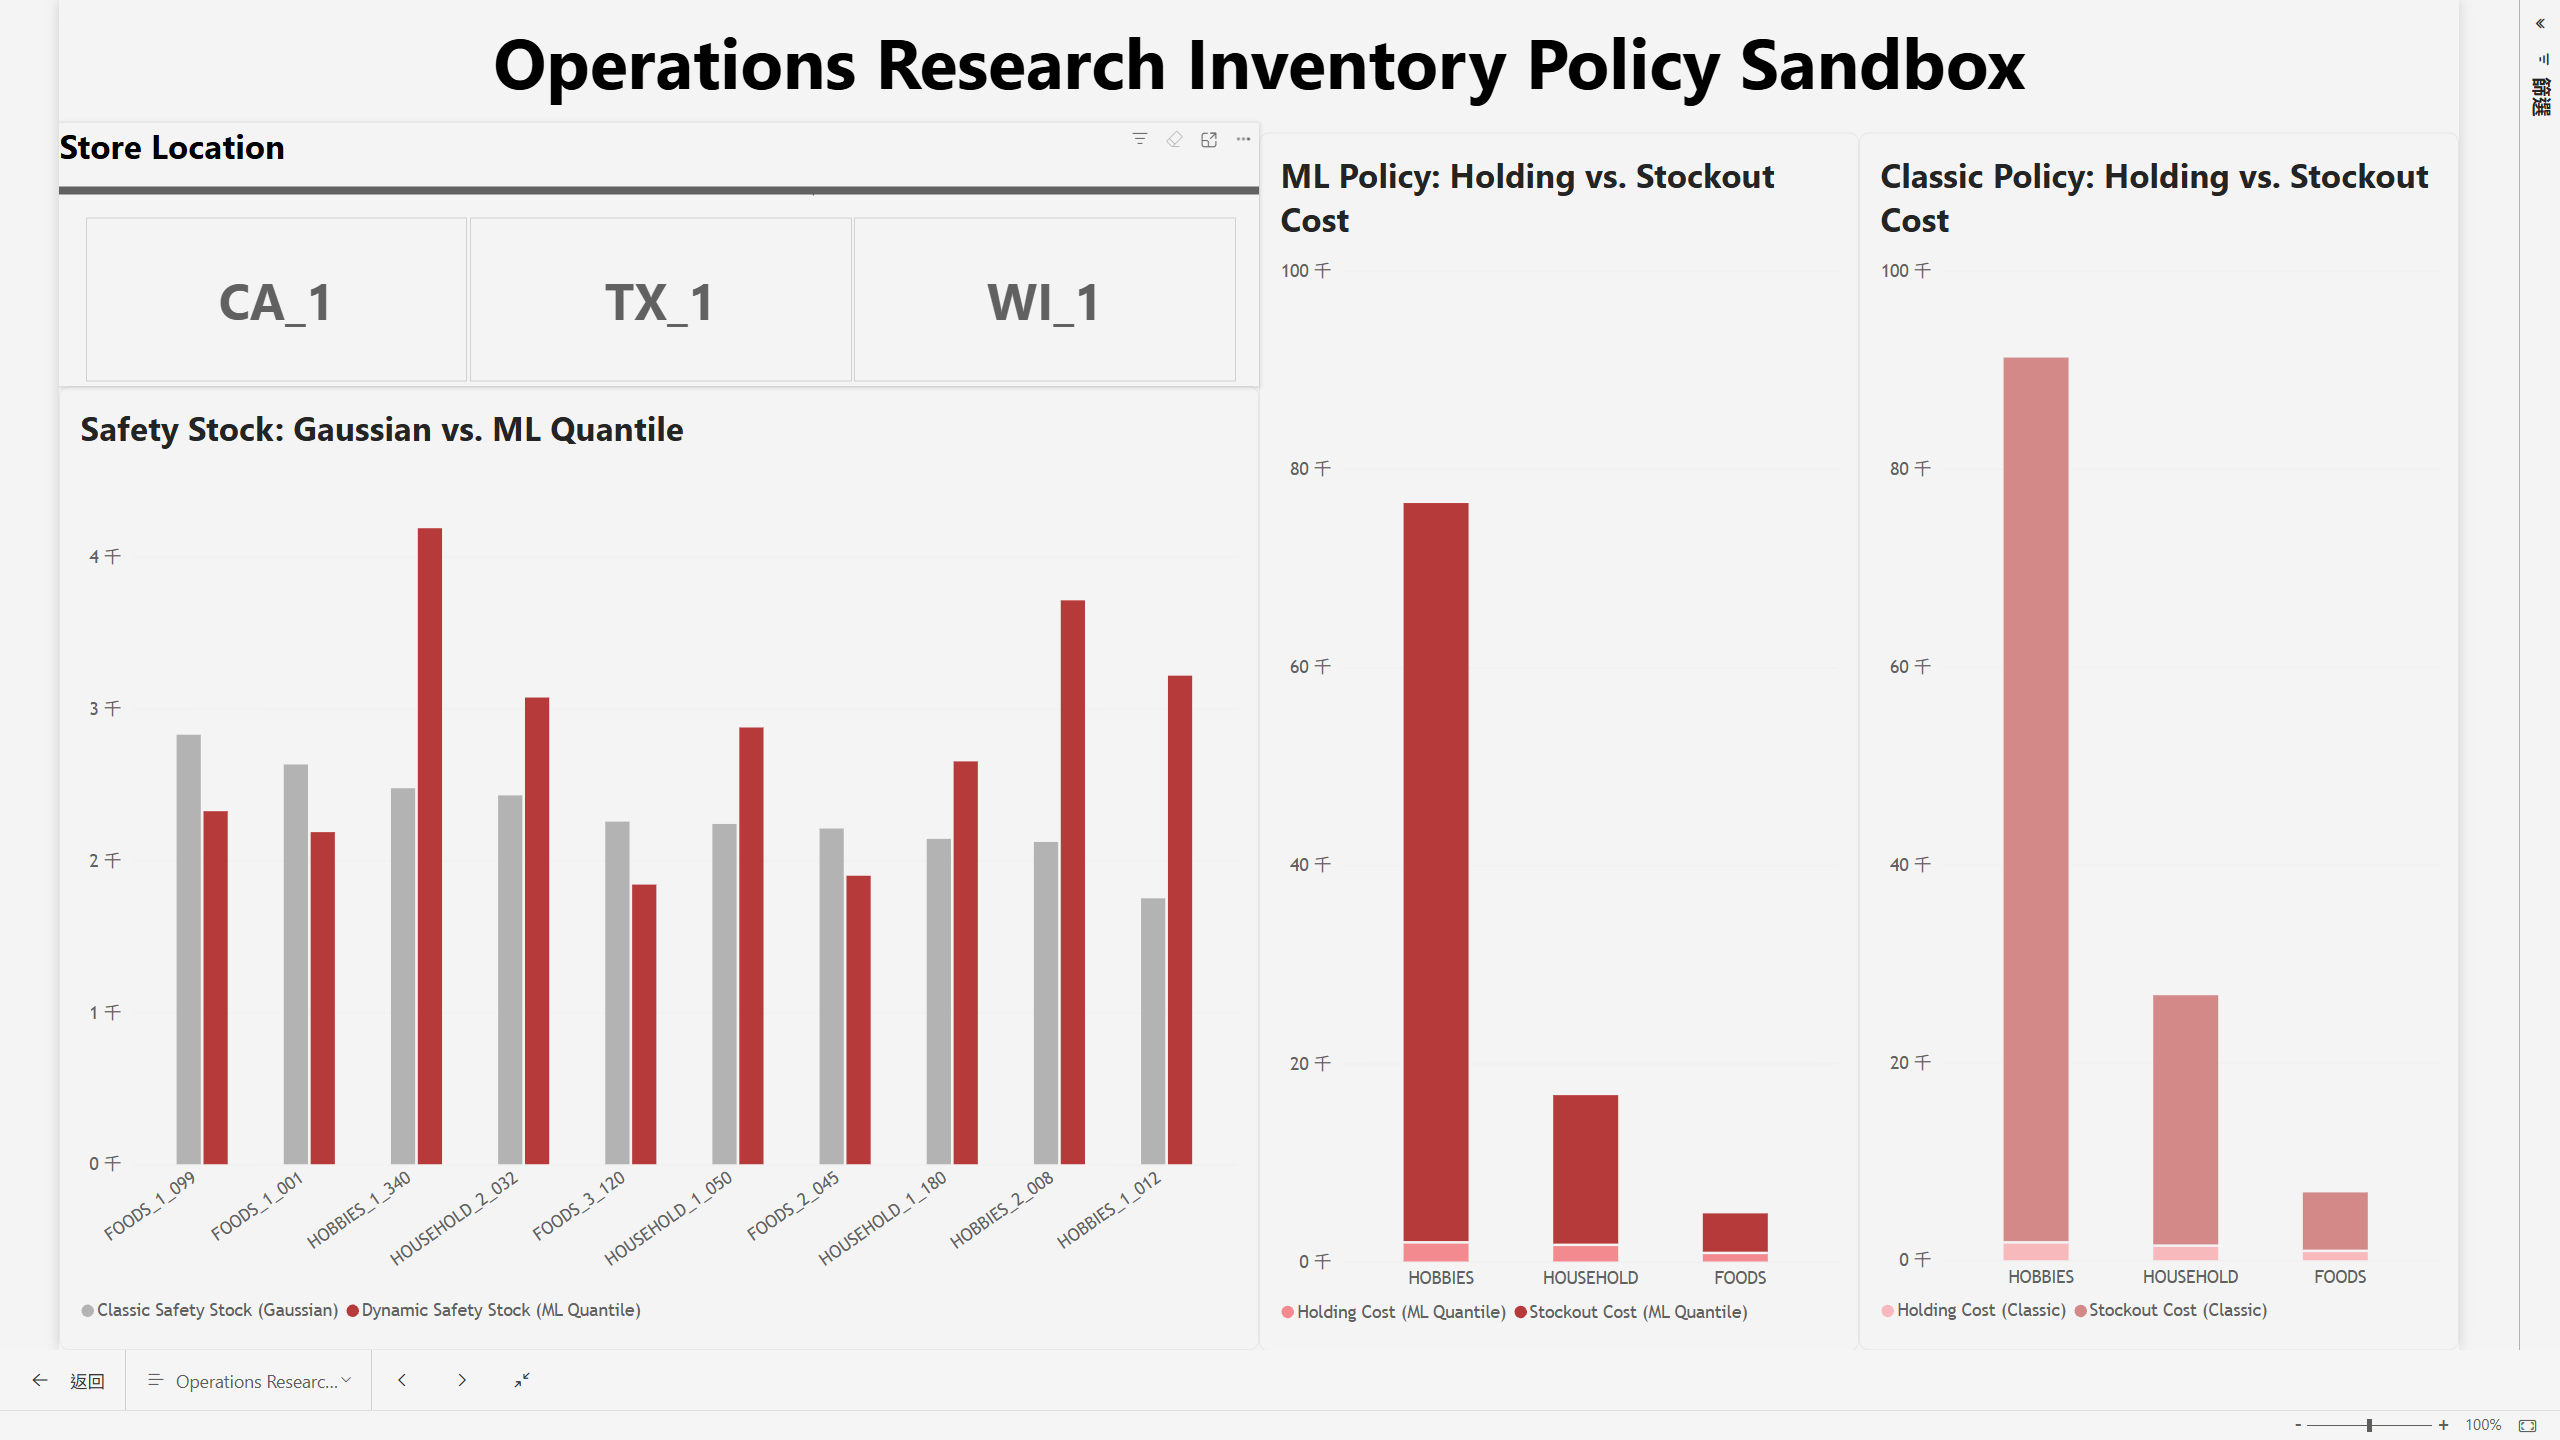

The dashboard page shown, as its layout file describes it:
{"tool":"powerbi","page":{"name":"Operations Research Inventory Policy Sandbox","canvas":[1920,1080],"ordinal":2},"visuals":[{"type":"clusteredColumnChart","title":"Safety Stock: Gaussian vs. ML Quantile","fields":{"Category":["Dim_Product.Item_ID"],"Y":["_Measures.Classic Safety Stock (Gaussian)","_Measures.Dynamic Safety Stock (ML Quantile)"]},"box":[0,308.8,960,771.2],"z":0},{"type":"columnChart","title":"Classic Policy: Holding vs. Stockout Cost","fields":{"Category":["Dim_Product.Cat_ID"],"Y":["_Measures.Holding Cost (Classic)","_Measures.Stockout Cost (Classic)"]},"box":[1440,106,480,974],"z":1000},{"type":"columnChart","title":"ML Policy: Holding vs. Stockout Cost","fields":{"Category":["Dim_Product.Cat_ID"],"Y":["_Measures.Holding Cost (ML Quantile)","_Measures.Stockout Cost (ML Quantile)"]},"box":[960,106.2,480,975],"z":2000},{"type":"textbox","box":[0,10,1920,96],"z":3000},{"type":"slicer","title":"Store Location","fields":{"Values":["Dim_Store.Store_ID"]},"box":[0,98.3,960,210],"z":4000}]}

Visuals, with their boxes on the page's 1920x1080 design canvas (x1, y1, x2, y2). These are canvas units, not pixel positions in the 2560x1440 screenshot, which may show the page scaled, cropped or inside an application window:
"Safety Stock: Gaussian vs. ML Quantile" clusteredColumnChart: 0:309:960:1080
"Classic Policy: Holding vs. Stockout Cost" columnChart: 1440:106:1920:1080
"ML Policy: Holding vs. Stockout Cost" columnChart: 960:106:1440:1081
textbox: 0:10:1920:106
"Store Location" slicer: 0:98:960:308
